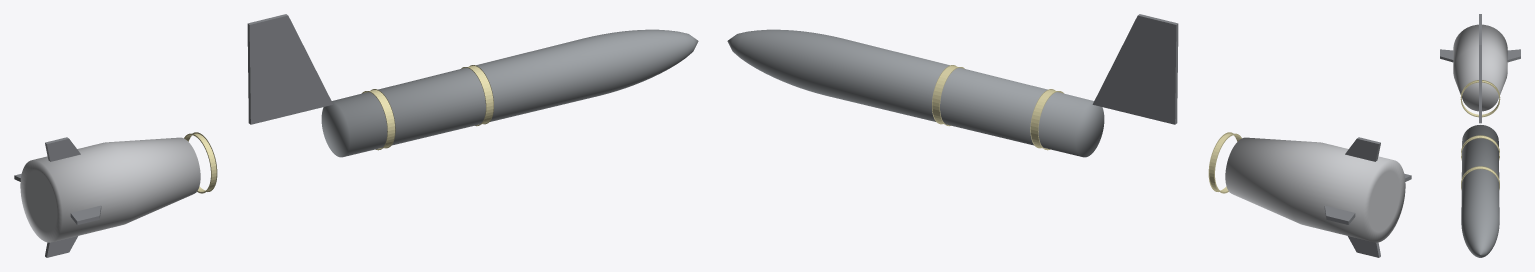
File: RU_ASM_P70_LOD0.fbx
The picture shows the model from 3 angles, left to right: view 1: azimuth 30°, elevation 25°; view 2: azimuth 150°, elevation 25°; view 3: azimuth 270°, elevation 25°; orthographic projection. The views are drawn at different scales.
Parts seen in each view (by area): view 1: WPN_RU_ASM_P70_LOD0_Body, WPN_RU_ASM_P70_LOD0_Tail, WPN_RU_ASM_P70_LOD0_Wings, WPN_RU_ASM_P70_LOD0_Marking, WPN_RU_ASM_P70_LOD0_Fins; view 2: WPN_RU_ASM_P70_LOD0_Body, WPN_RU_ASM_P70_LOD0_Tail, WPN_RU_ASM_P70_LOD0_Wings, WPN_RU_ASM_P70_LOD0_Marking, WPN_RU_ASM_P70_LOD0_Fins; view 3: WPN_RU_ASM_P70_LOD0_Body, WPN_RU_ASM_P70_LOD0_Tail, WPN_RU_ASM_P70_LOD0_Marking, WPN_RU_ASM_P70_LOD0_Fins, WPN_RU_ASM_P70_LOD0_Wings.
Part boxes in pixels (x1=…): WPN_RU_ASM_P70_LOD0_Body: x1=321, y1=29, x2=698, y2=157; WPN_RU_ASM_P70_LOD0_Tail: x1=20, y1=137, x2=200, y2=242; WPN_RU_ASM_P70_LOD0_Wings: x1=247, y1=14, x2=333, y2=124; WPN_RU_ASM_P70_LOD0_Marking: x1=184, y1=65, x2=493, y2=193; WPN_RU_ASM_P70_LOD0_Fins: x1=14, y1=137, x2=101, y2=257; WPN_RU_ASM_P70_LOD0_Body: x1=727, y1=29, x2=1104, y2=157; WPN_RU_ASM_P70_LOD0_Tail: x1=1225, y1=137, x2=1405, y2=242; WPN_RU_ASM_P70_LOD0_Wings: x1=1092, y1=14, x2=1178, y2=124; WPN_RU_ASM_P70_LOD0_Marking: x1=932, y1=65, x2=1241, y2=193; WPN_RU_ASM_P70_LOD0_Fins: x1=1324, y1=137, x2=1411, y2=257; WPN_RU_ASM_P70_LOD0_Body: x1=1461, y1=125, x2=1499, y2=257; WPN_RU_ASM_P70_LOD0_Tail: x1=1453, y1=24, x2=1507, y2=111; WPN_RU_ASM_P70_LOD0_Marking: x1=1460, y1=80, x2=1500, y2=189; WPN_RU_ASM_P70_LOD0_Fins: x1=1440, y1=14, x2=1520, y2=62; WPN_RU_ASM_P70_LOD0_Wings: x1=1479, y1=32, x2=1481, y2=123.
Size of the model in its own units: 7 by 1.16 by 1.87.
